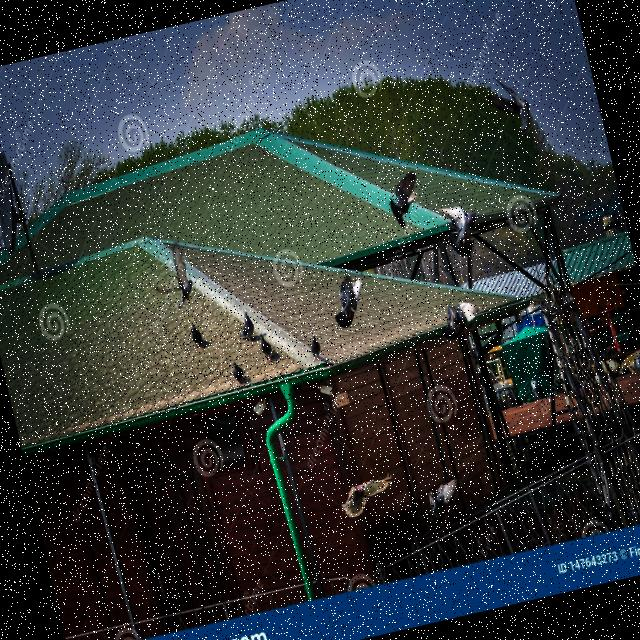bird: (482, 70, 535, 138), (336, 471, 400, 521), (326, 272, 372, 330), (416, 477, 466, 528), (235, 310, 258, 346), (172, 278, 198, 308), (257, 332, 276, 364), (229, 358, 249, 387), (306, 334, 324, 364), (188, 322, 204, 348)
